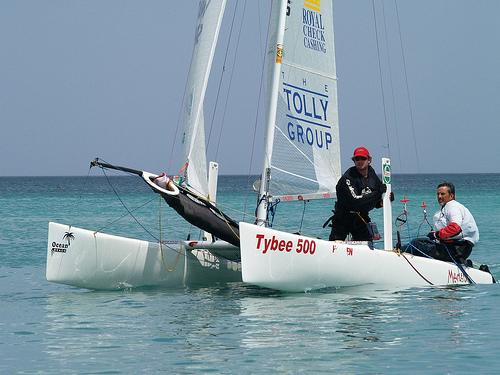Ship: (46, 1, 500, 289)
